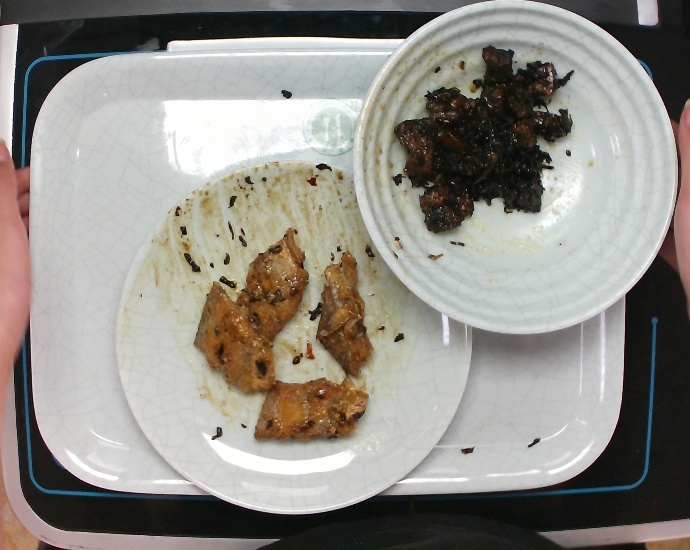JYsf-Da_Tang_Wan: (351, 1, 680, 336)
JYsf-Da_Yuan_Pan: (112, 155, 474, 516)
